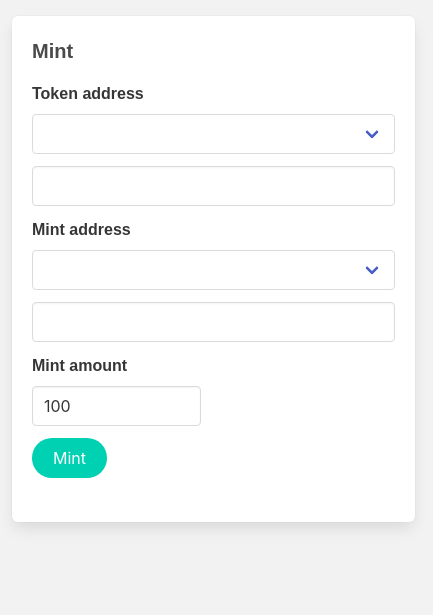
it: can mint token
Type "0x7367C96553Ed4C44E6962A38d8a0b5f4BE9F6298" into the field with test id "mint-address" at (213, 322), box [32,302,395,342]
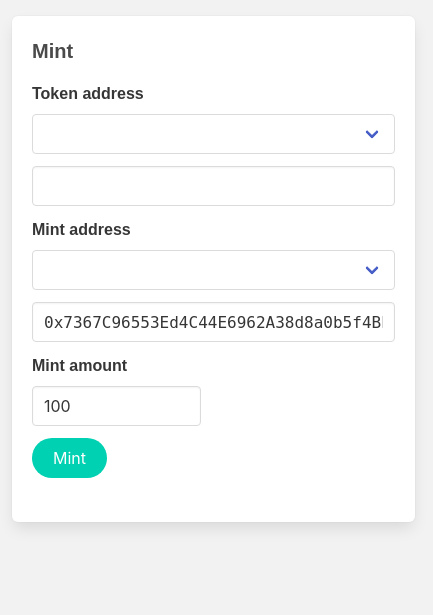
Click the button with test id "mint" at (70, 458), box [32,438,107,478]
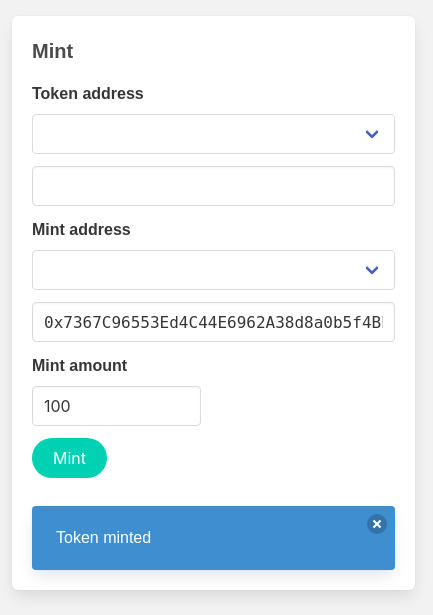
Check: the element with test id "notification" reads "Token minted", box [56,529,151,546]
